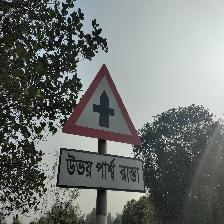Crossroad: (56, 61, 153, 198)
